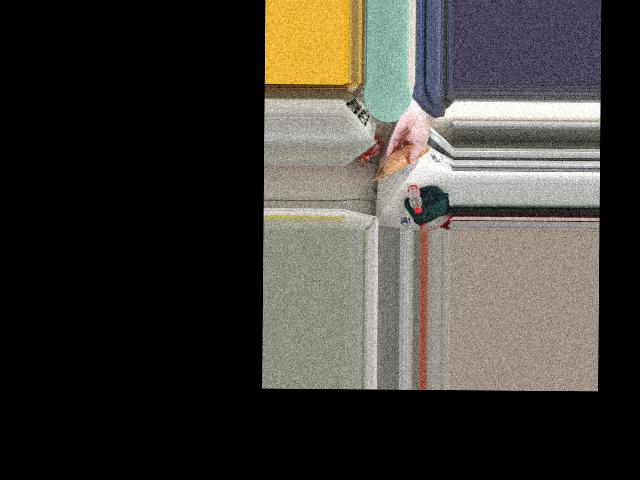sweet_potato: (387, 143, 419, 174)
